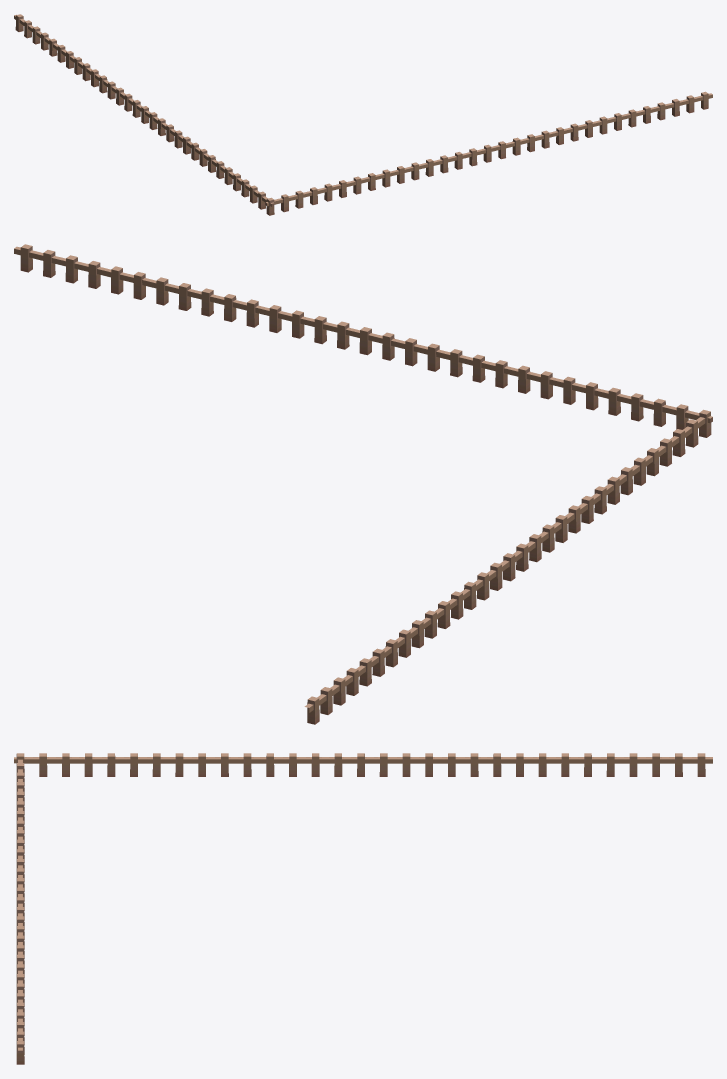
3 renders of one model, top to bottom at view 1: azimuth 30°, elevation 25°; view 2: azimuth 150°, elevation 25°; view 3: azimuth 270°, elevation 25°, orthographic. The views are drawn at different scales.
Visible parts, largest first — view 1: model; view 2: model; view 3: model.
Boxes of the visible parts, box(x1,y1,x2,y2) form: model: box(14, 14, 712, 215); model: box(14, 244, 712, 724); model: box(14, 753, 712, 1064).
Bounding box in the file's own units: 61.57 × 1.96 × 61.58.
Materials: 1 (1 with a texture image).
